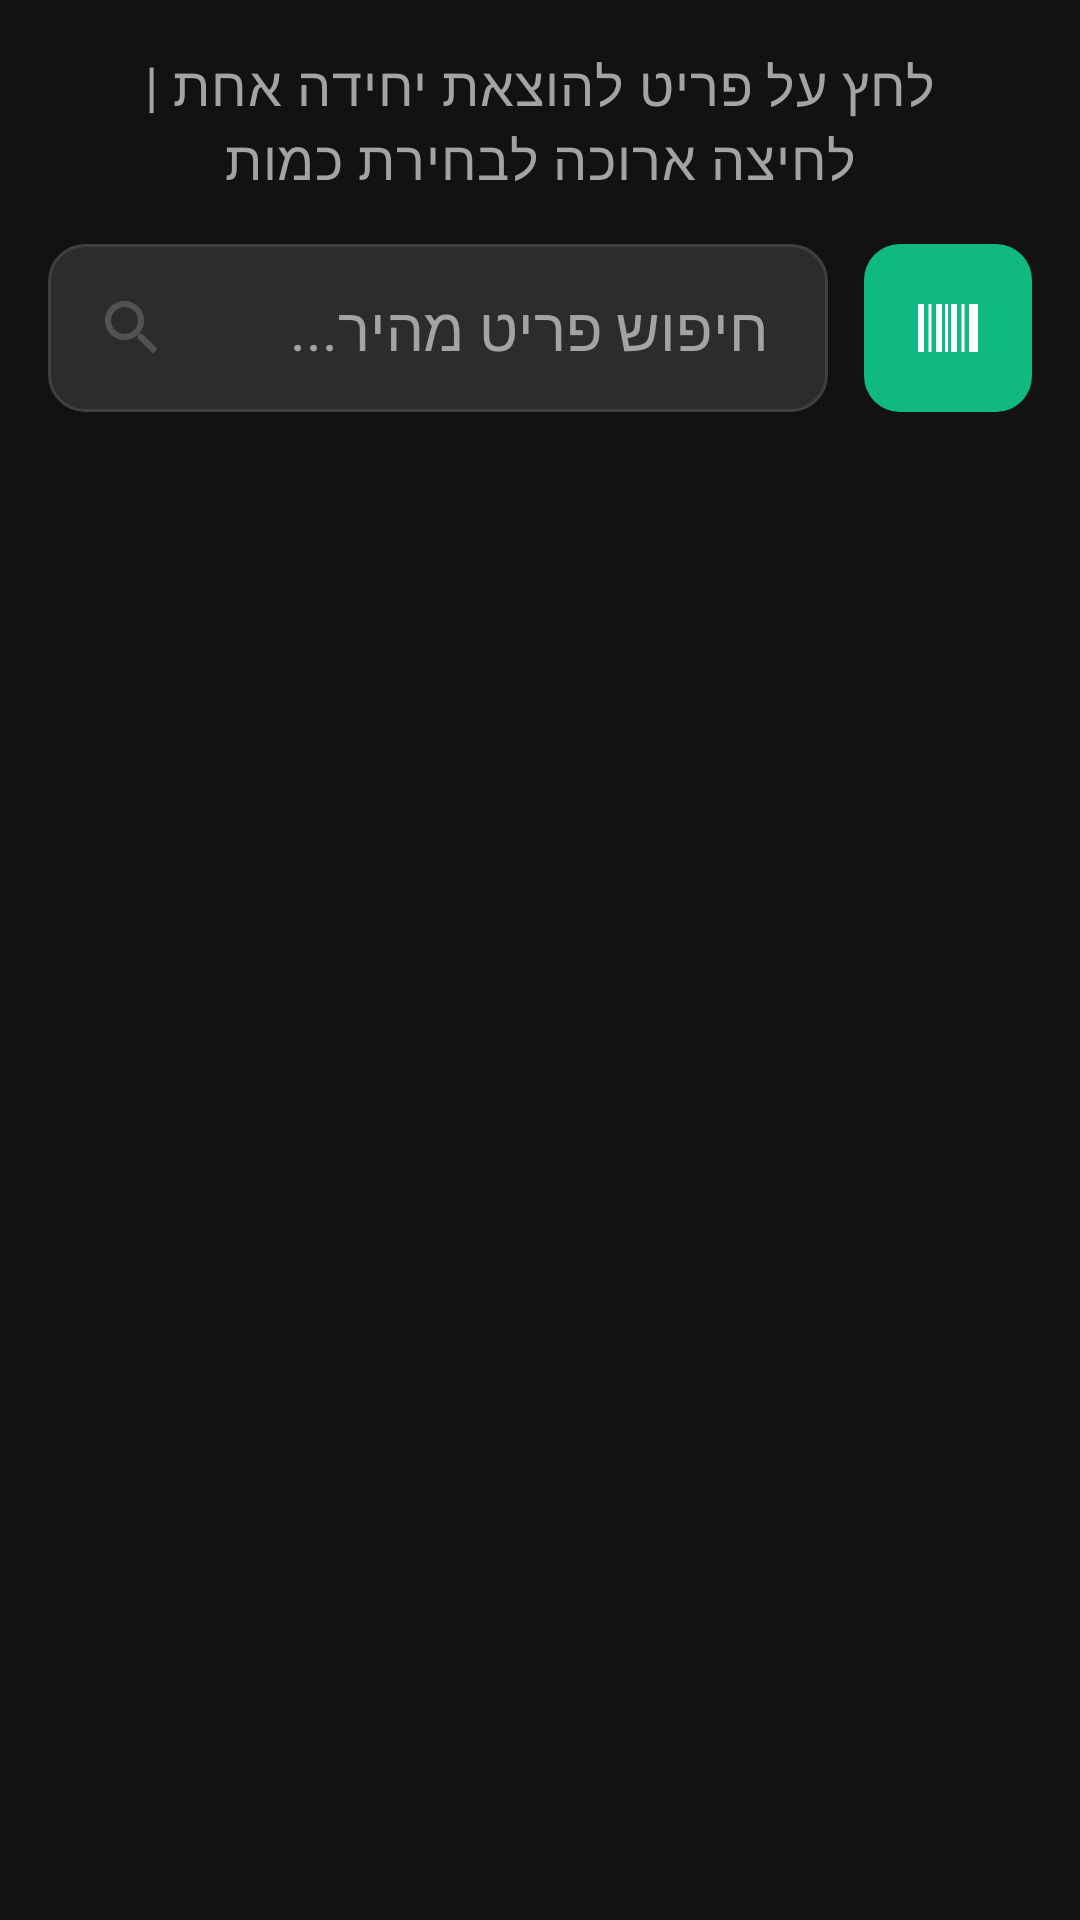

Icon bounding boxes for this 1080*1920 phone screenshot, format (x1, y1, x2, y2):
סריקת ברקוד: (864, 244, 1032, 412)
